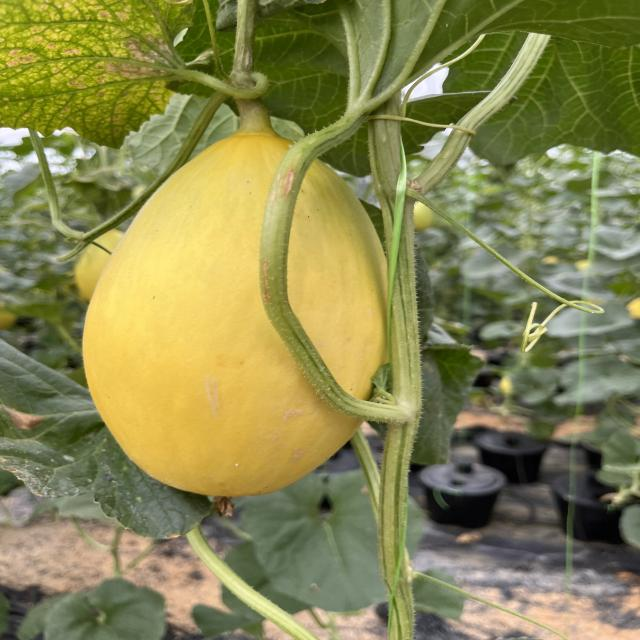CMV: (0, 0, 188, 147)
alternaria leaf blight: (0, 344, 224, 543)
healthy: (447, 0, 640, 159), (210, 0, 377, 157)
